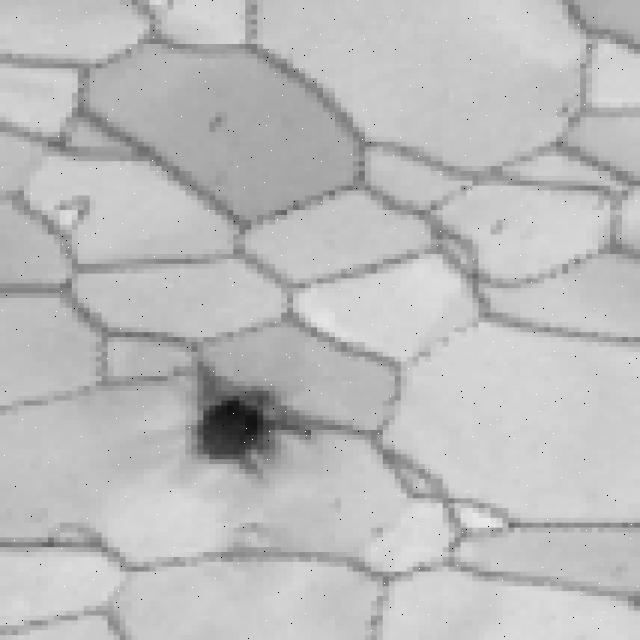good_void: (186, 375, 316, 476), (205, 111, 232, 137)
